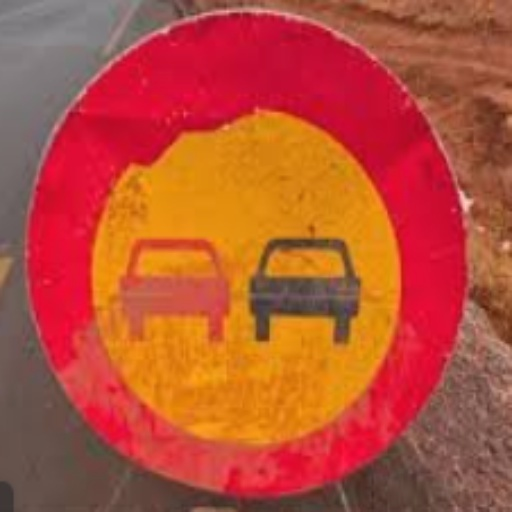No overtake: (36, 15, 483, 489)
